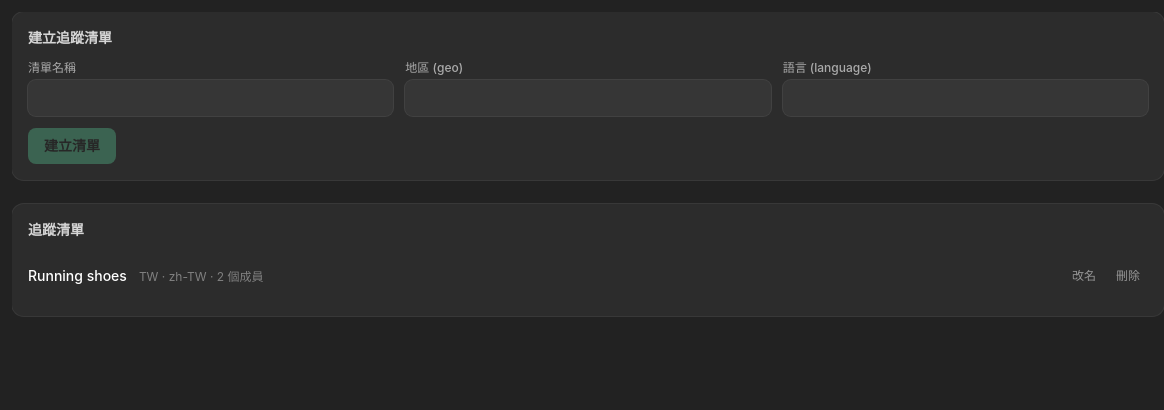
TC-40 · TrackingListsView › maps a rename 409 duplicate to a name-collision prompt
The image size is (1164, 410).
Click the button with aria-label "改名 Running shoes".
click(1084, 276)  # box [1064,264,1104,288]
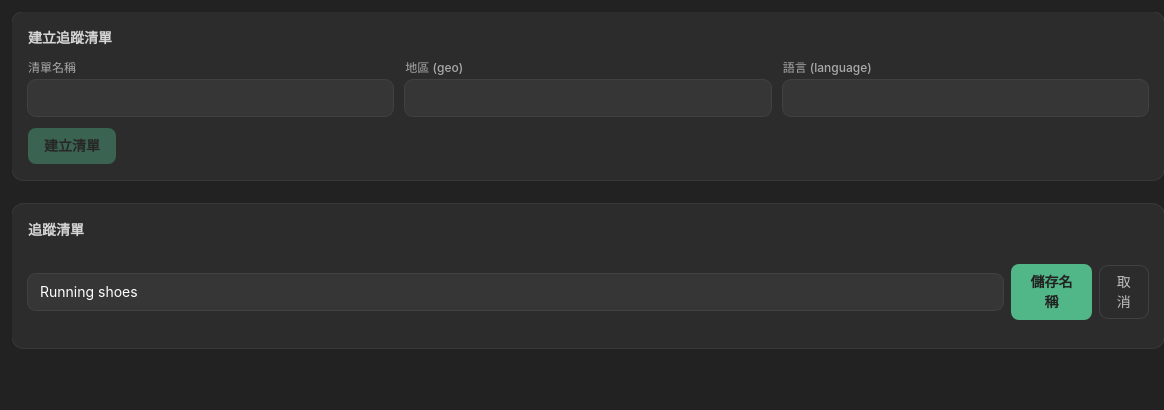
Replace the text in the field named "重新命名 Running shoes" with "Trail" at (516, 292), box [28,274,1003,310]
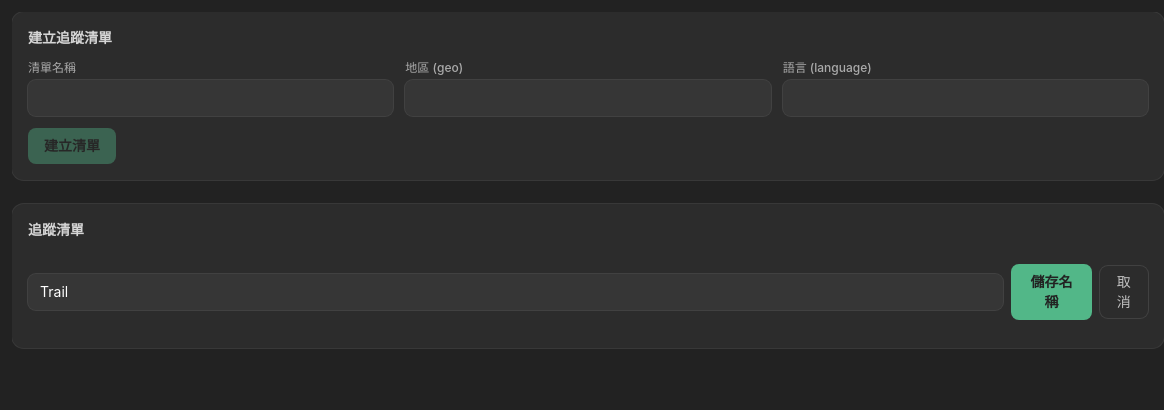
Click the button "儲存名稱".
click(1051, 292)  # box [1011,264,1092,320]
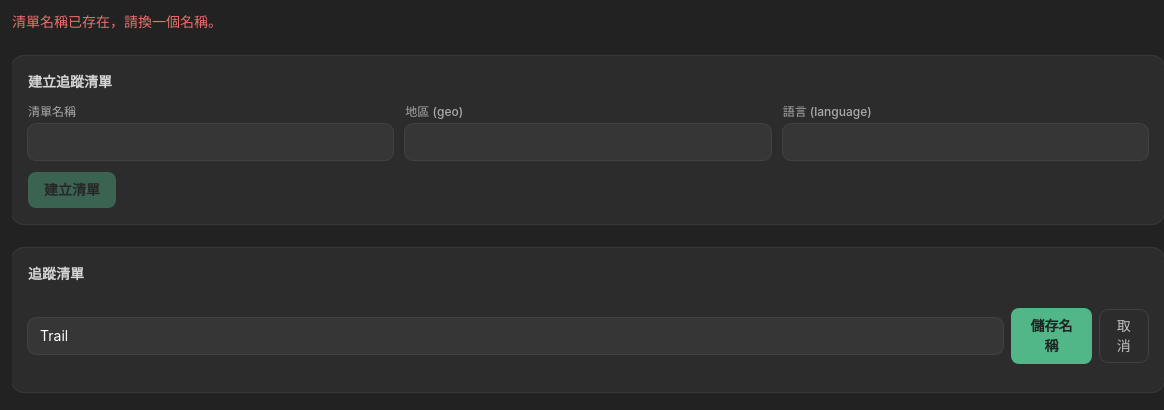
Now the message shows "名稱", box [12,13,222,30]
